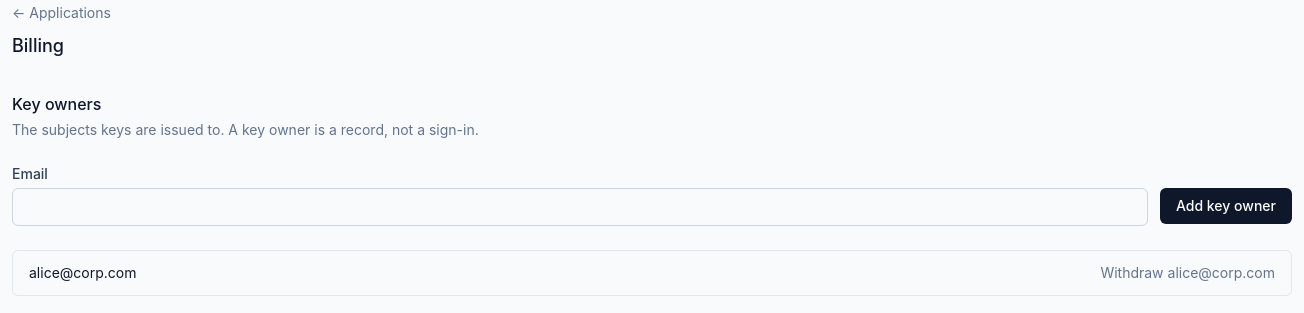
Scenario: withdraws a key owner and refreshes the list
Click the button "Withdraw alice@corp.com". click: (1188, 273)
box: [1100,263,1275,283]
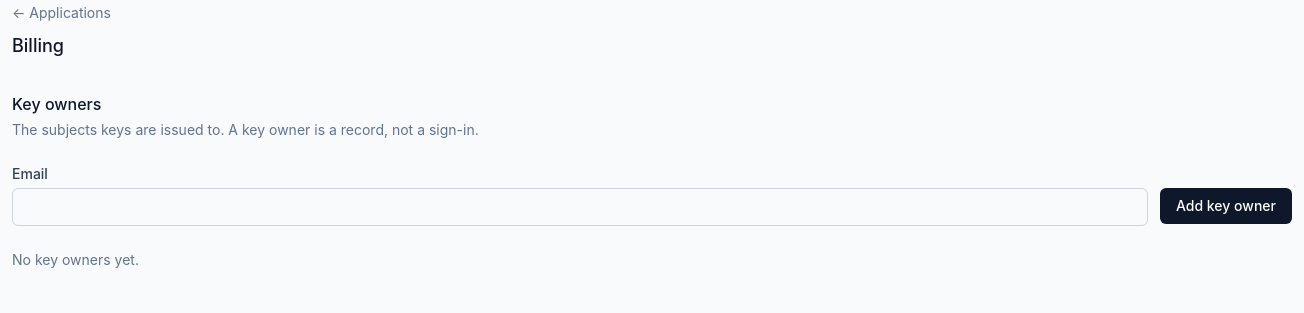
Result: the text "No key owners yet." is shown at [12,251,139,268]
